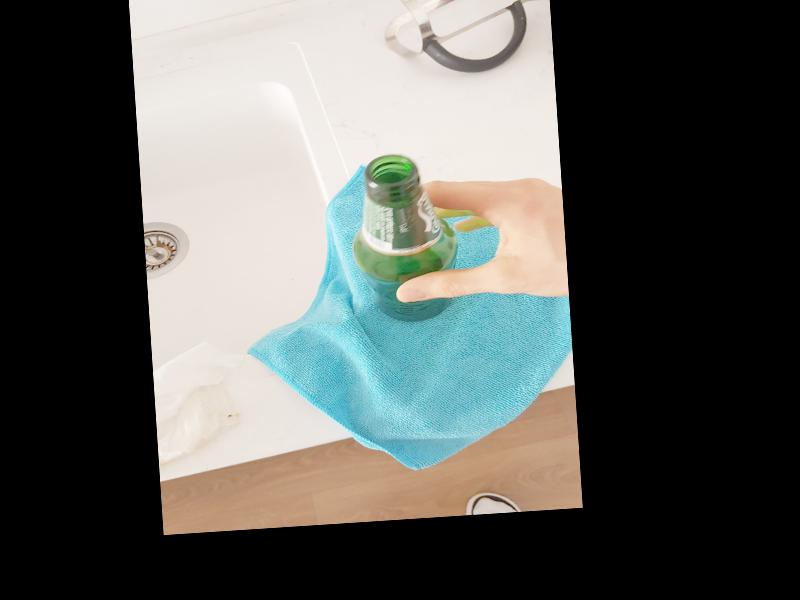Beer: (348, 153, 454, 326)
